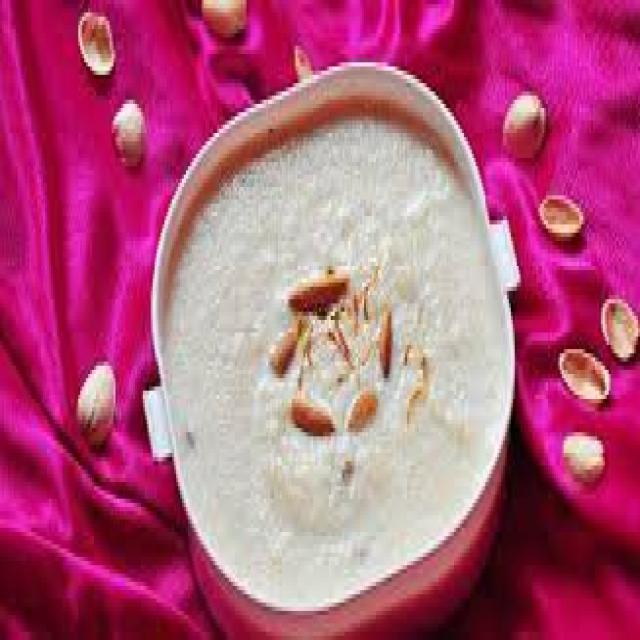Kheer: (161, 104, 509, 596)
